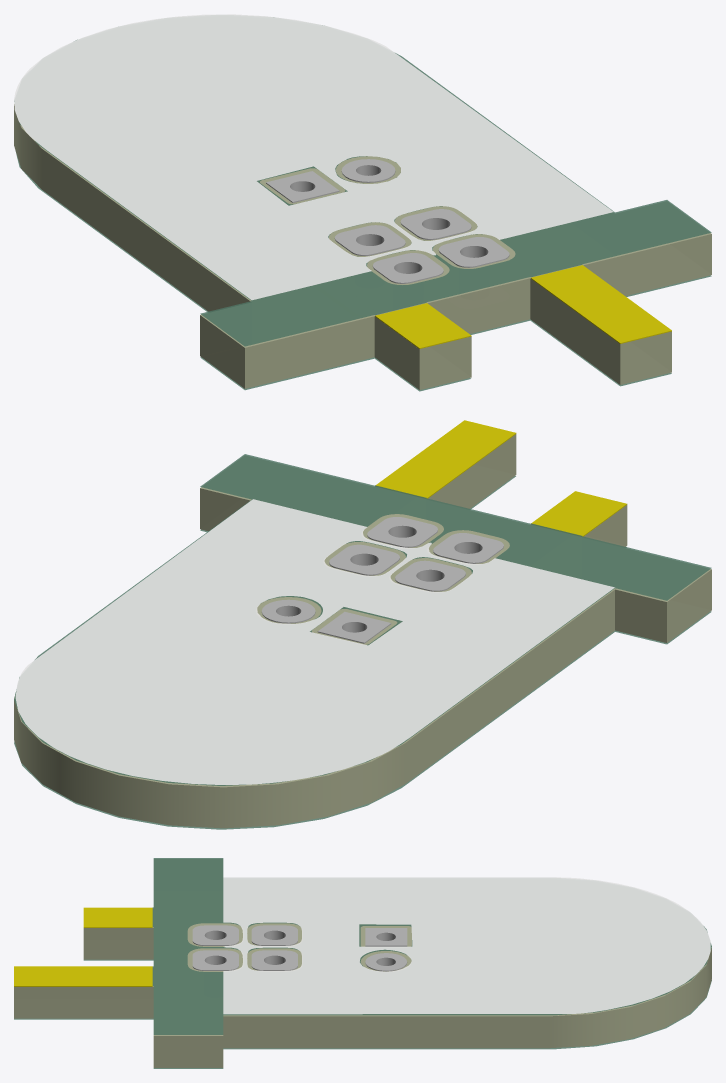
Rendered from led-addon.glb.
The picture shows the model from 3 angles, top to bottom: view 1: azimuth 30°, elevation 25°; view 2: azimuth 150°, elevation 25°; view 3: azimuth 270°, elevation 25°; orthographic projection. The views are drawn at different scales.
Parts seen in each view (by area): view 1: =>[0:1:1:4], =>[0:1:1:8], =>[0:1:1:6], =>[0:1:1:2]; view 2: =>[0:1:1:4], =>[0:1:1:8], =>[0:1:1:6], =>[0:1:1:2]; view 3: =>[0:1:1:4], =>[0:1:1:8], =>[0:1:1:6], =>[0:1:1:2].
Boxes of the visible parts, x1,y1,x2,y2 form: =>[0:1:1:4]: (14, 14, 613, 300); =>[0:1:1:8]: (14, 104, 711, 389); =>[0:1:1:6]: (14, 17, 711, 391); =>[0:1:1:2]: (266, 159, 671, 348); =>[0:1:1:4]: (15, 499, 614, 784); =>[0:1:1:8]: (14, 434, 711, 828); =>[0:1:1:6]: (14, 454, 711, 829); =>[0:1:1:2]: (261, 420, 627, 643); =>[0:1:1:4]: (223, 877, 710, 1014); =>[0:1:1:8]: (14, 859, 711, 1067); =>[0:1:1:6]: (14, 858, 711, 1068); =>[0:1:1:2]: (14, 907, 407, 986).
Bounding box in the file's own units: 0.018 × 0.00166 × 0.03.
Materials: 4 (4 with a texture image).
